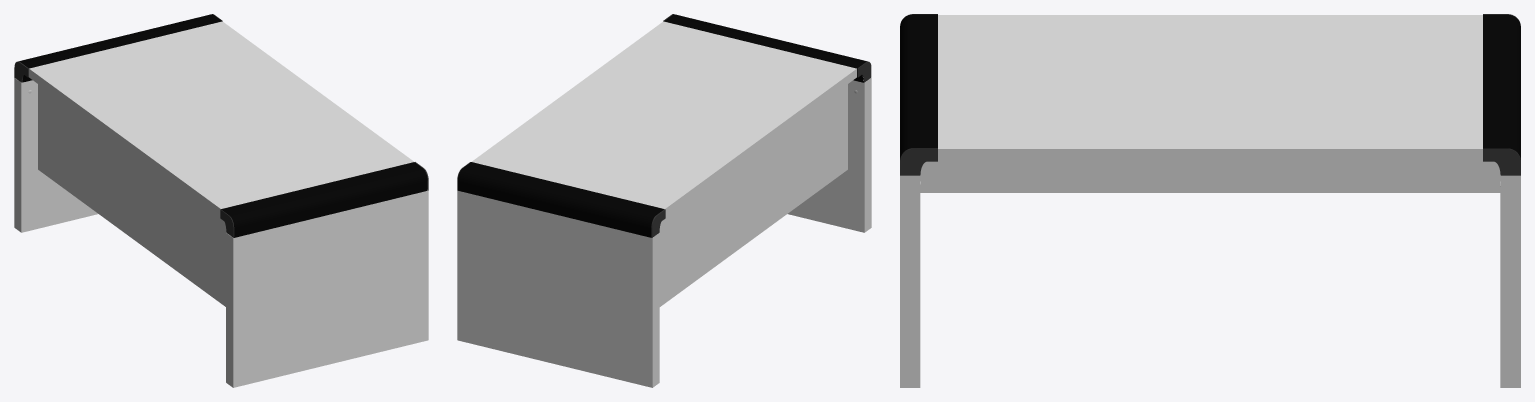
File: Table.fbx
3 renders of one model, left to right at view 1: azimuth 30°, elevation 25°; view 2: azimuth 150°, elevation 25°; view 3: azimuth 270°, elevation 25°, orthographic. The views are drawn at different scales.
Visible parts, largest first — view 1: TableLP.005; view 2: TableLP.005; view 3: TableLP.005.
Part boxes in pixels (x1=…): TableLP.005: x1=14, y1=14, x2=428, y2=387; TableLP.005: x1=457, y1=14, x2=871, y2=387; TableLP.005: x1=900, y1=14, x2=1520, y2=387.
Bounding box in the file's own units: 2.73 × 2.25 × 5.3.
